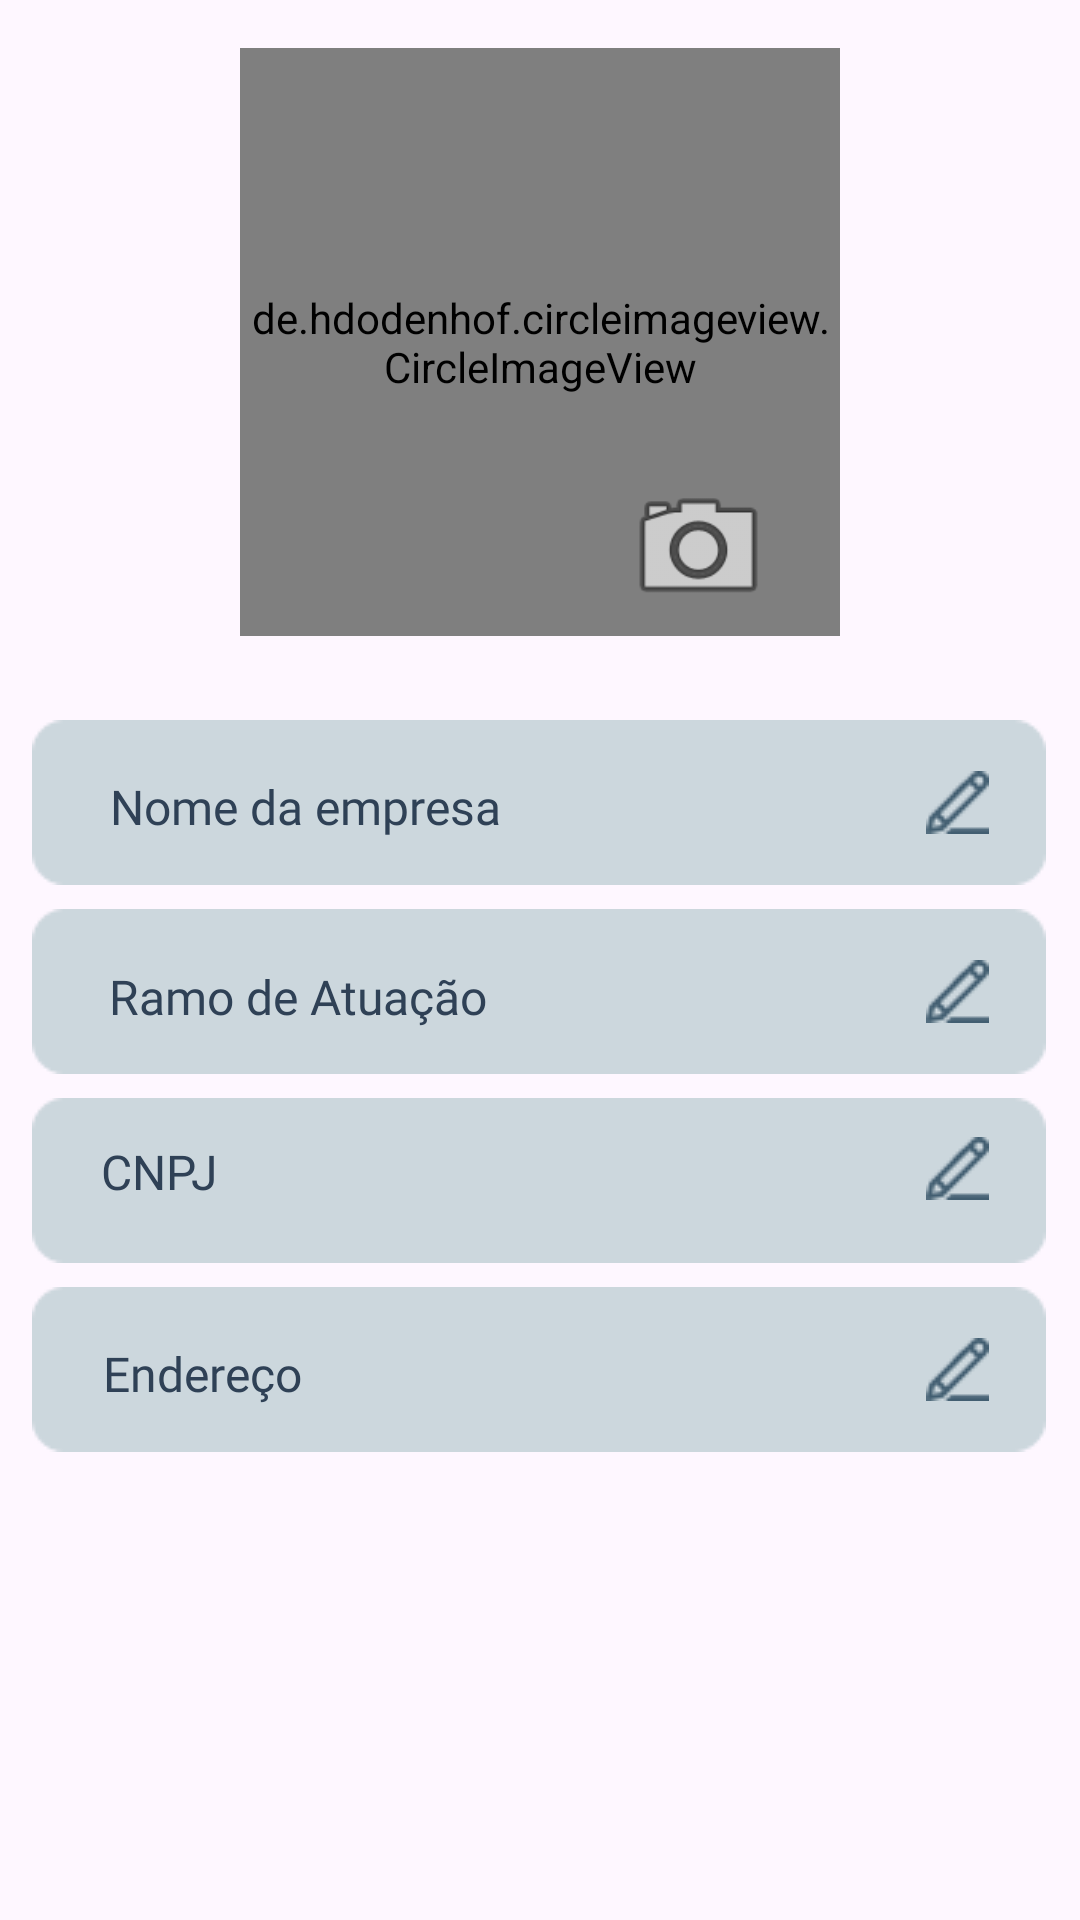

Named icons in this screenshot (1080 × 1920) and their centers, (x=x, y=y):
camera: (x=698, y=545)
